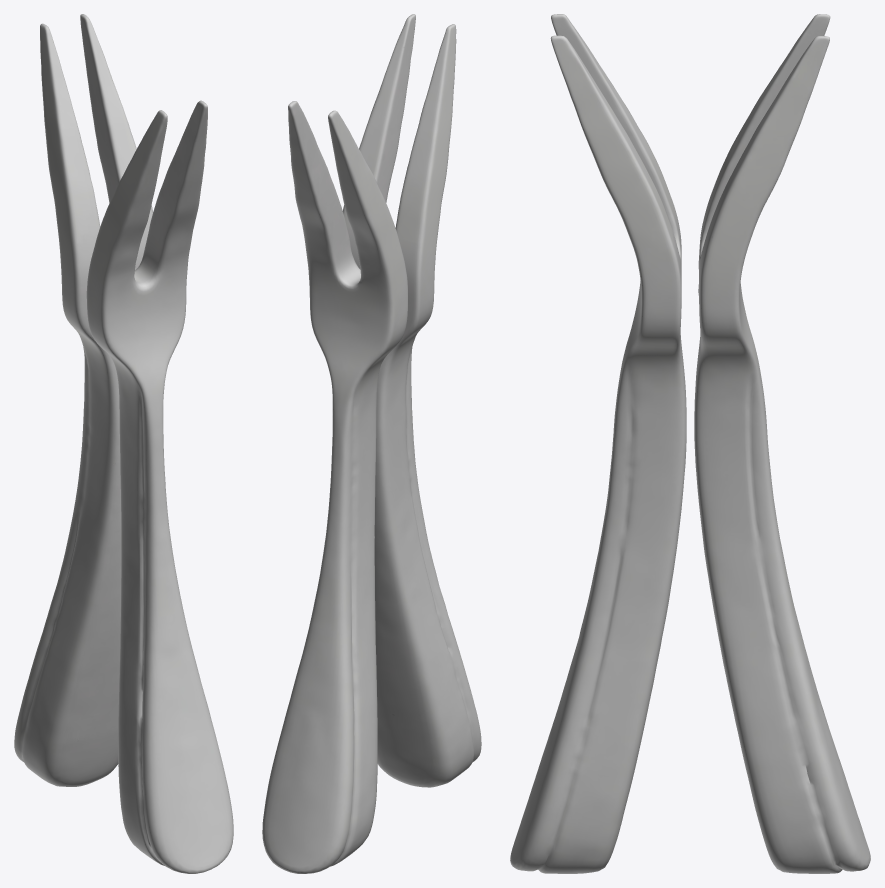
The model's file is model_fruit_fork.glb.
The picture shows the model from 3 angles, left to right: view 1: azimuth 30°, elevation 25°; view 2: azimuth 150°, elevation 25°; view 3: azimuth 270°, elevation 25°; orthographic projection. The views are drawn at different scales.
Visible parts, largest first — view 1: tripo_node_d4cd75fb-6b30-48be-9ff1-6bec5ee188bc; view 2: tripo_node_d4cd75fb-6b30-48be-9ff1-6bec5ee188bc; view 3: tripo_node_d4cd75fb-6b30-48be-9ff1-6bec5ee188bc.
Part boxes in pixels (<box>): tripo_node_d4cd75fb-6b30-48be-9ff1-6bec5ee188bc: <box>14,14,233,873</box>; tripo_node_d4cd75fb-6b30-48be-9ff1-6bec5ee188bc: <box>262,14,481,873</box>; tripo_node_d4cd75fb-6b30-48be-9ff1-6bec5ee188bc: <box>510,14,870,873</box>.
Bounding box in the file's own units: 0.1182 × 0.9997 × 0.3887.
Materials: 1 (1 with a texture image).
